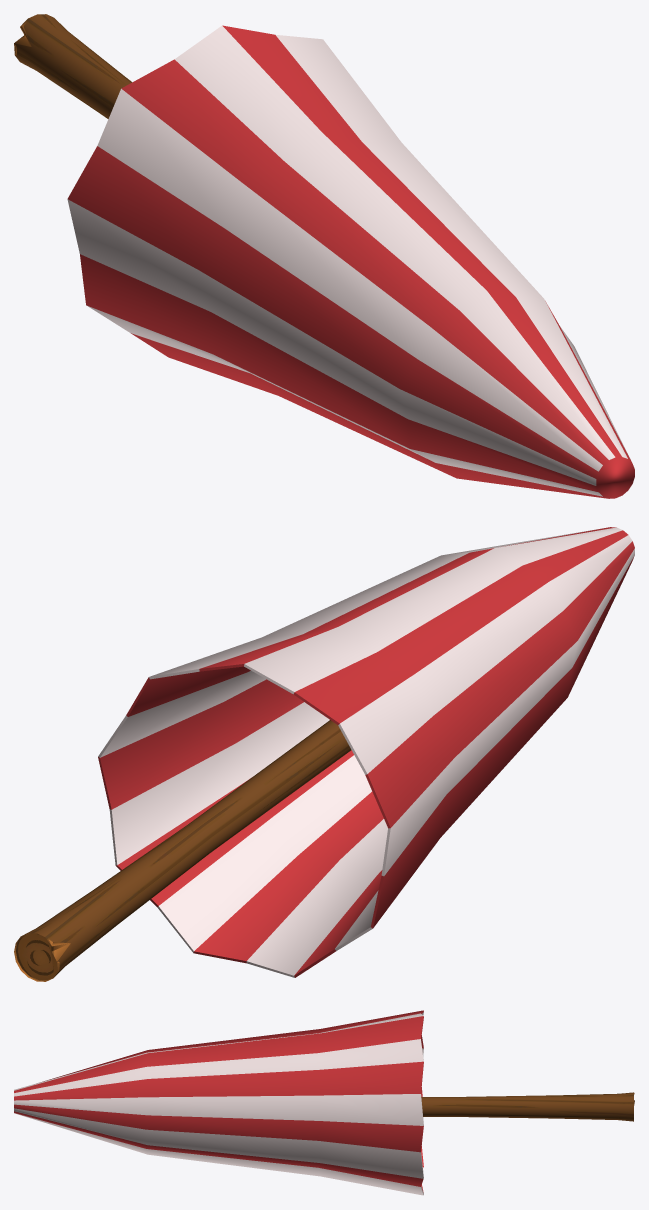
Rendered from Festive UmbrellaDrop.fbx.
The picture shows the model from 3 angles, top to bottom: view 1: azimuth 30°, elevation 25°; view 2: azimuth 150°, elevation 25°; view 3: azimuth 270°, elevation 25°; orthographic projection. The views are drawn at different scales.
Parts seen in each view (by area): view 1: Capsule (5), Capsule (4); view 2: Capsule (5), Capsule (4); view 3: Capsule (5), Capsule (4).
Boxes of the visible parts, x1,y1,x2,y2 form: Capsule (5): (67, 25, 634, 498); Capsule (4): (14, 14, 132, 118); Capsule (5): (98, 527, 634, 977); Capsule (4): (14, 720, 351, 981); Capsule (5): (14, 1010, 423, 1195); Capsule (4): (421, 1092, 634, 1121).
Bounding box in the file's own units: 0.6906 × 0.6802 × 2.31.
Materials: 2 (2 with a texture image).
